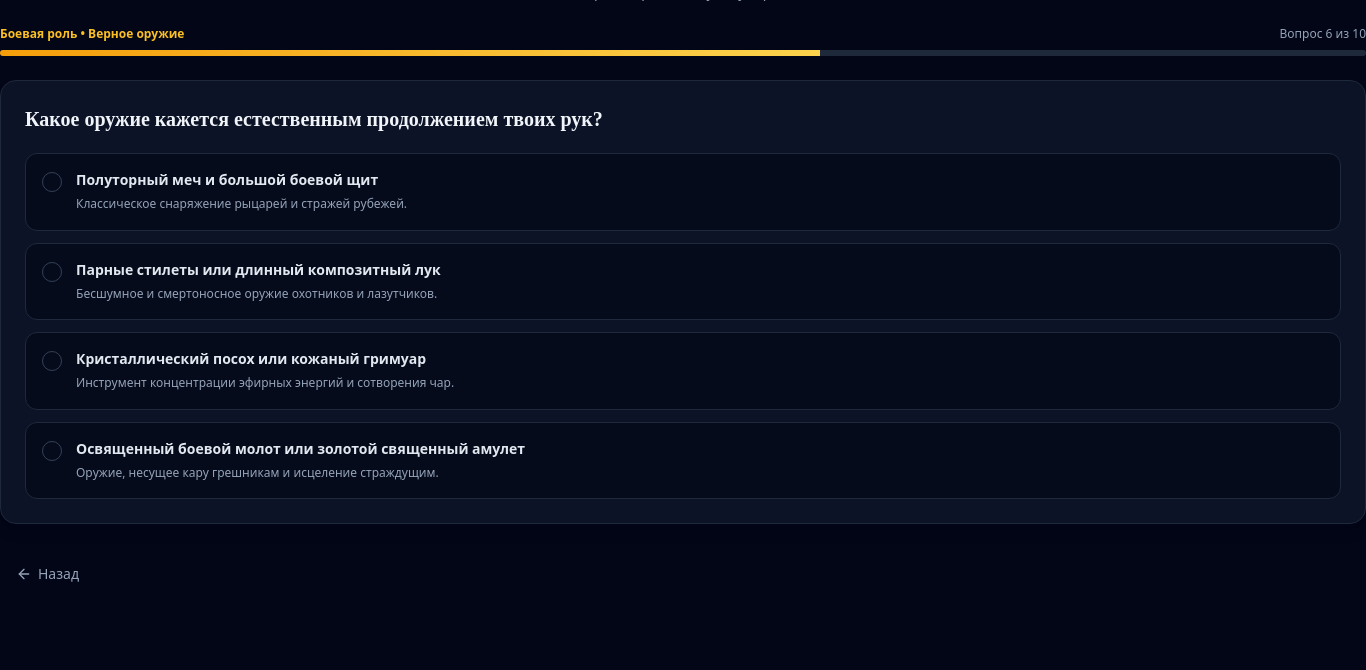
PersonalityQuiz Component › allows restarting quiz from the result screen
This screenshot has width=1366, height=670.
Earlier steps of the test are not shown.
Click the button that starts with "Полуторный меч и большой боевой щит" at [227, 180], box [25,153,1341,230]
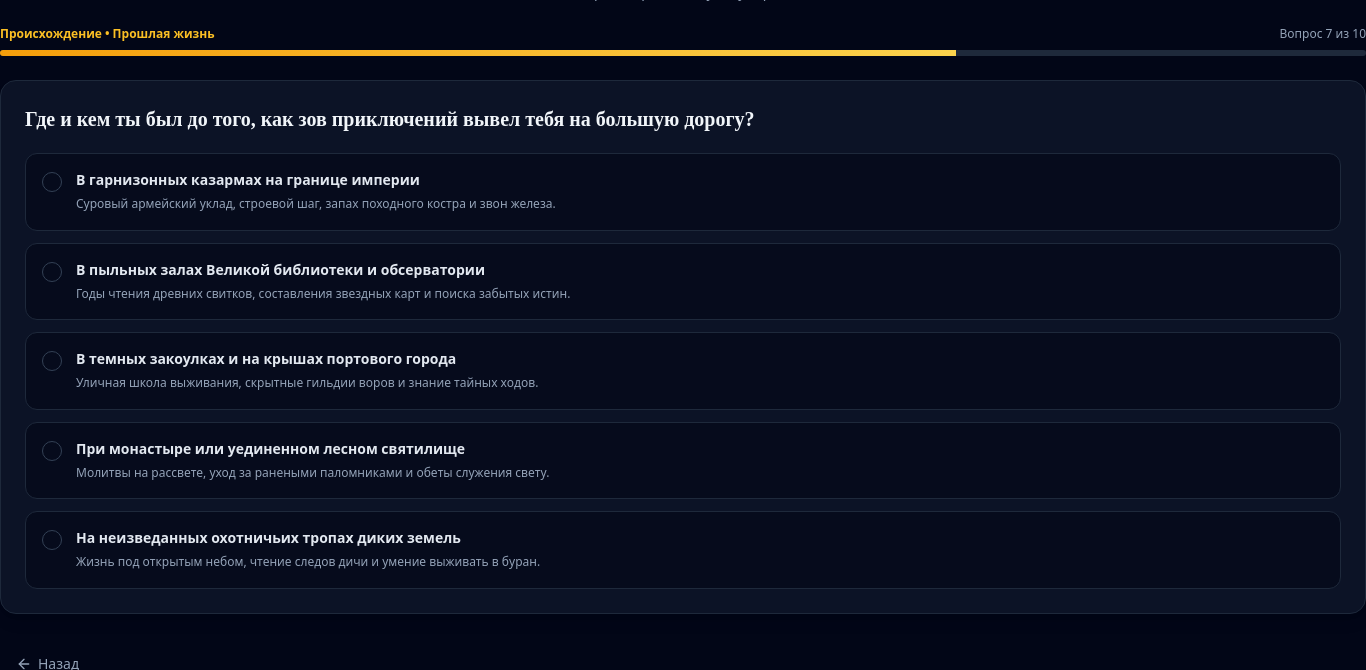
Click the 1st button at [248, 180], box [25,153,1341,230]
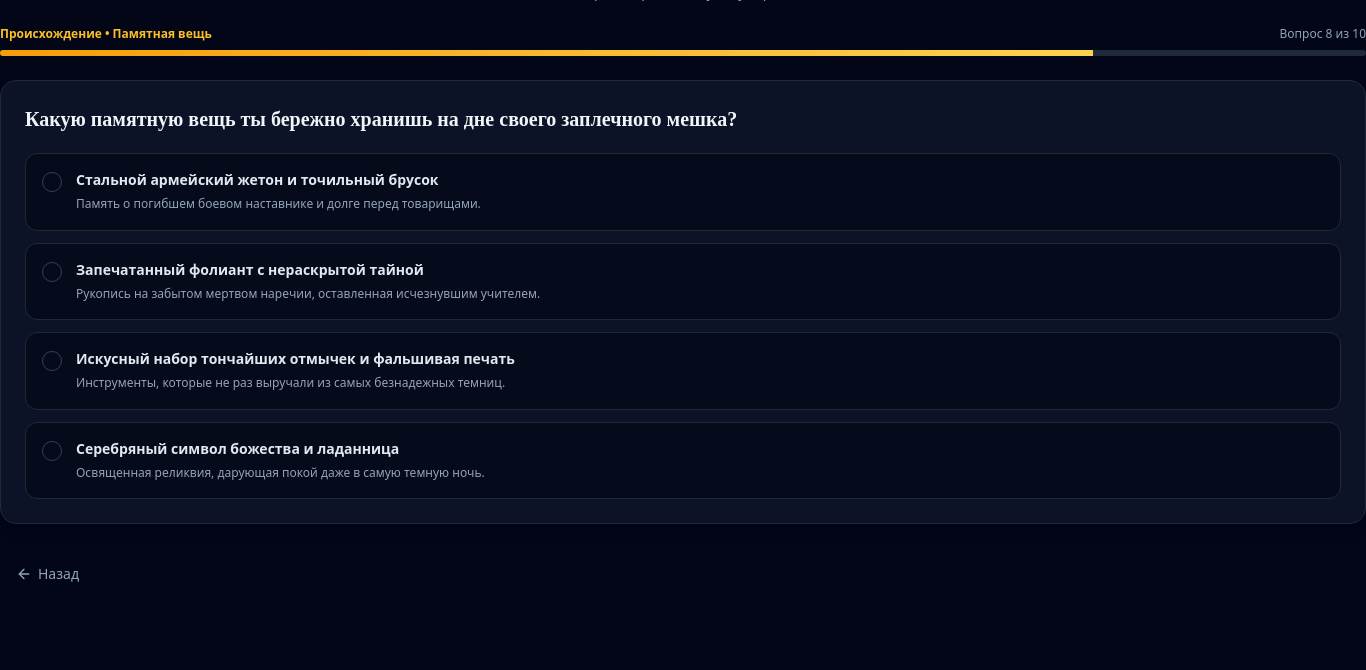
Click the 1st button at [257, 180], box [25,153,1341,230]
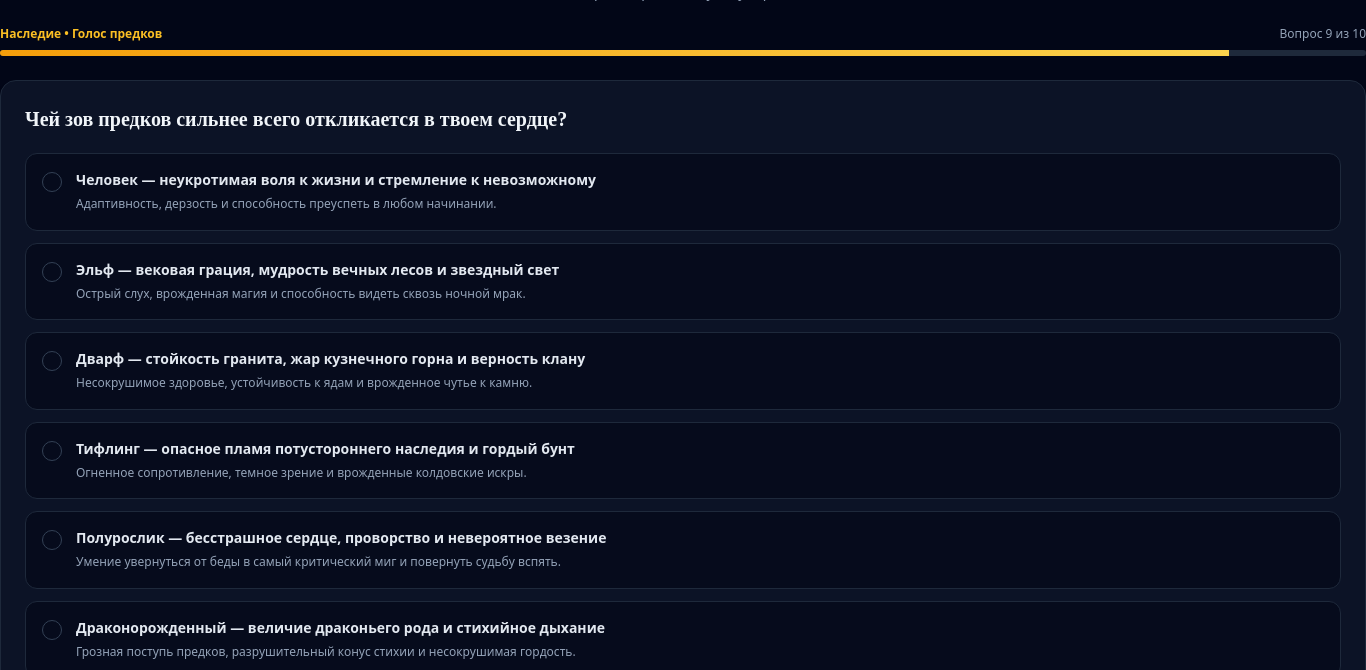
Click the 1st button at [336, 180], box [25,153,1341,230]
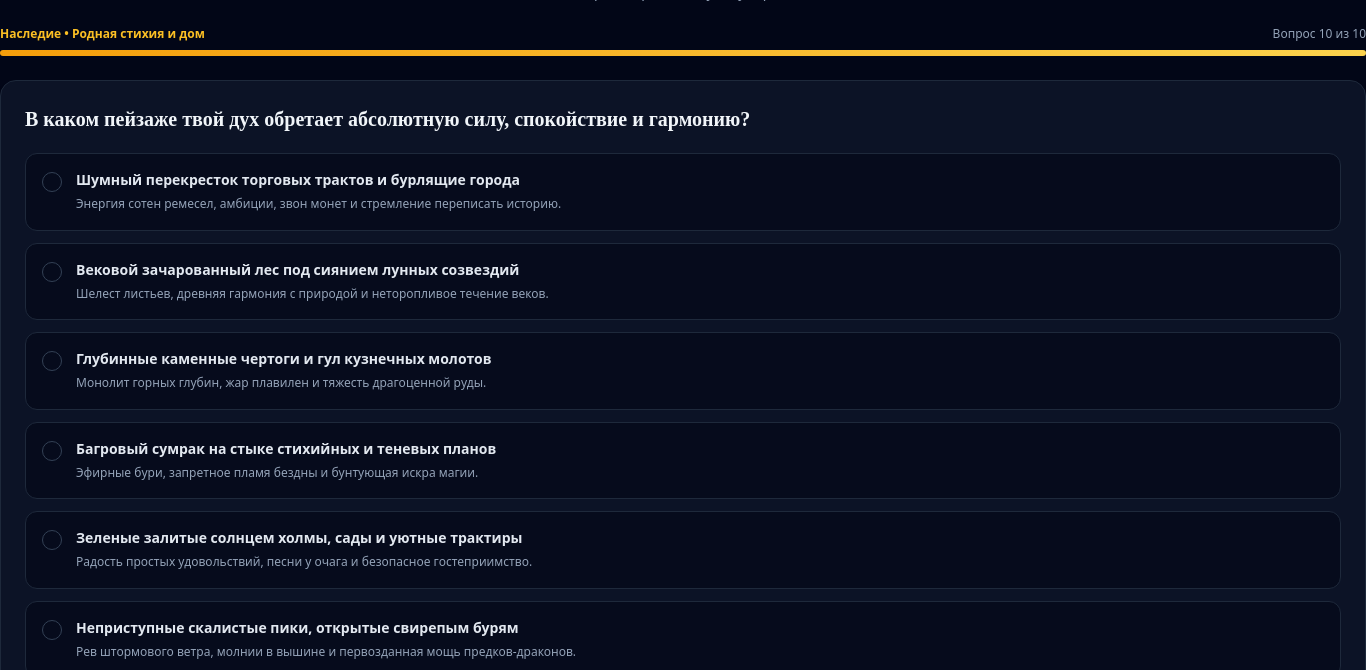
Click the 1st button at [298, 180], box [25,153,1341,230]
(page scrolled)
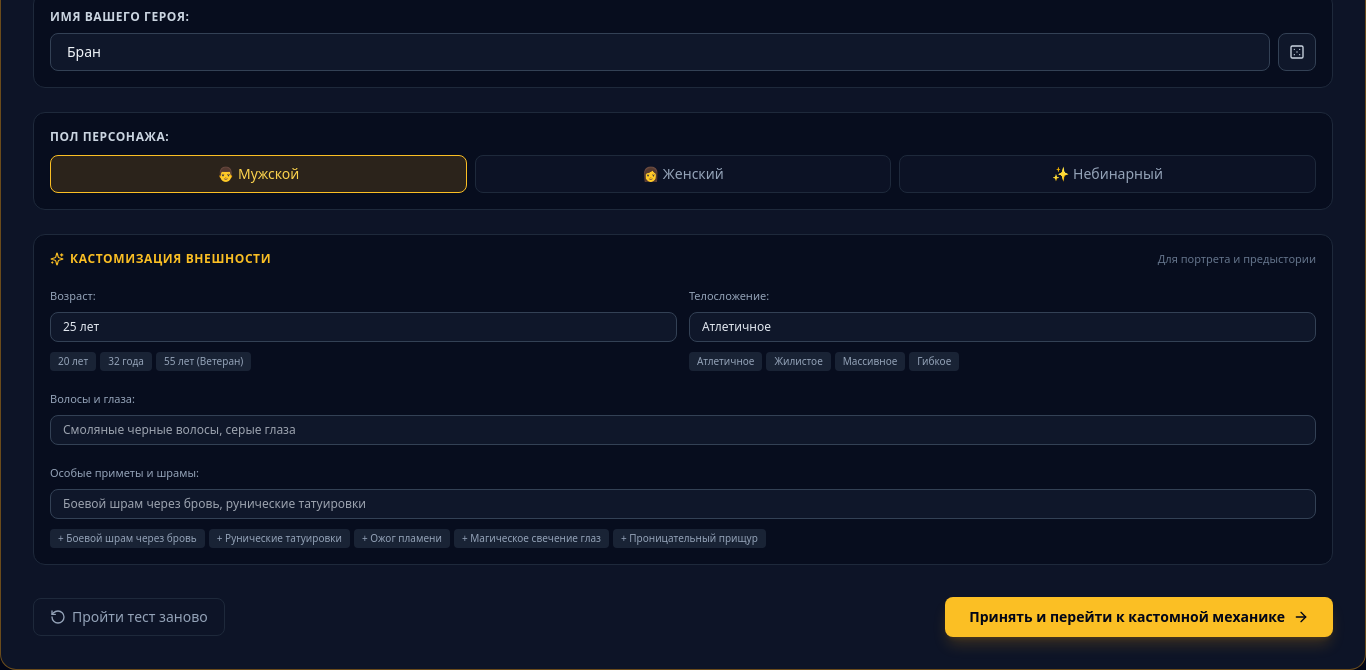
Result: the button "Пройти тест заново" is shown
Click the button "Пройти тест заново" at [129, 616], box [33,598,225,636]
(page scrolled)
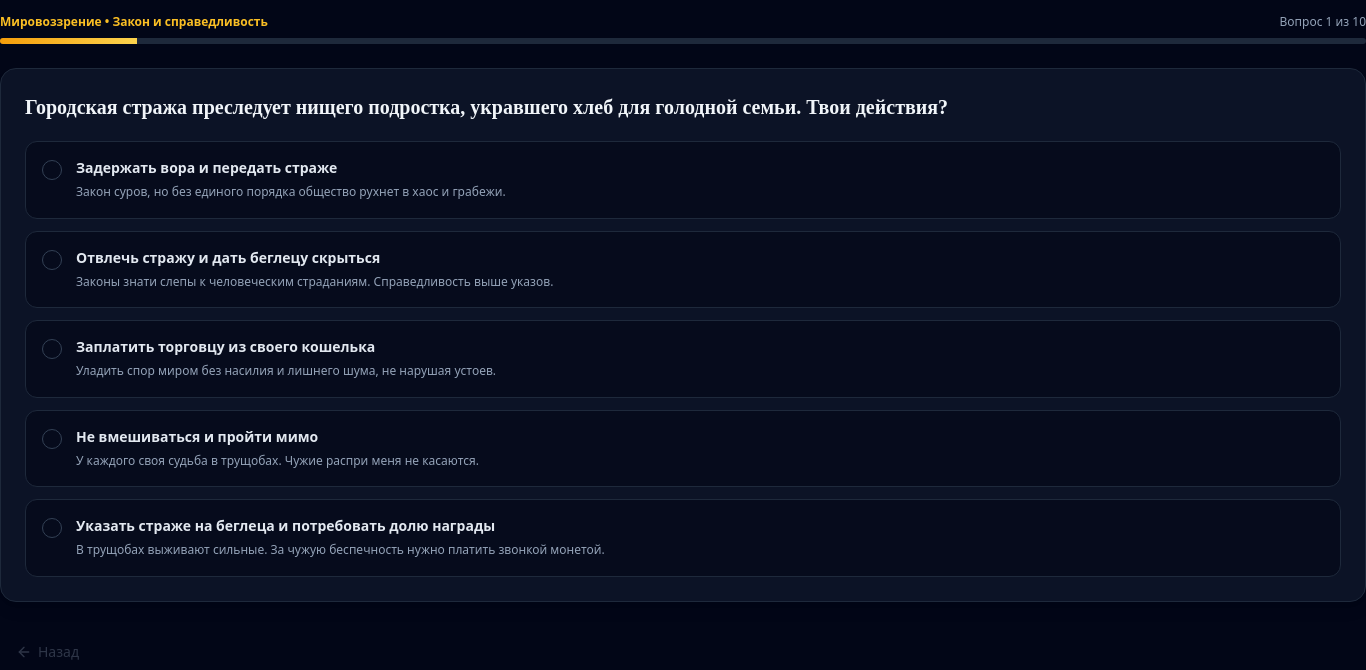
Result: the text "Вопрос 1 из 10" is shown at [1280,14,1365,30]
